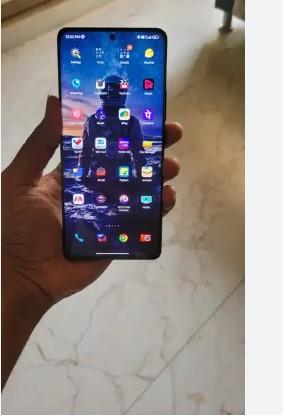Smart Phone: (56, 28, 169, 262)
